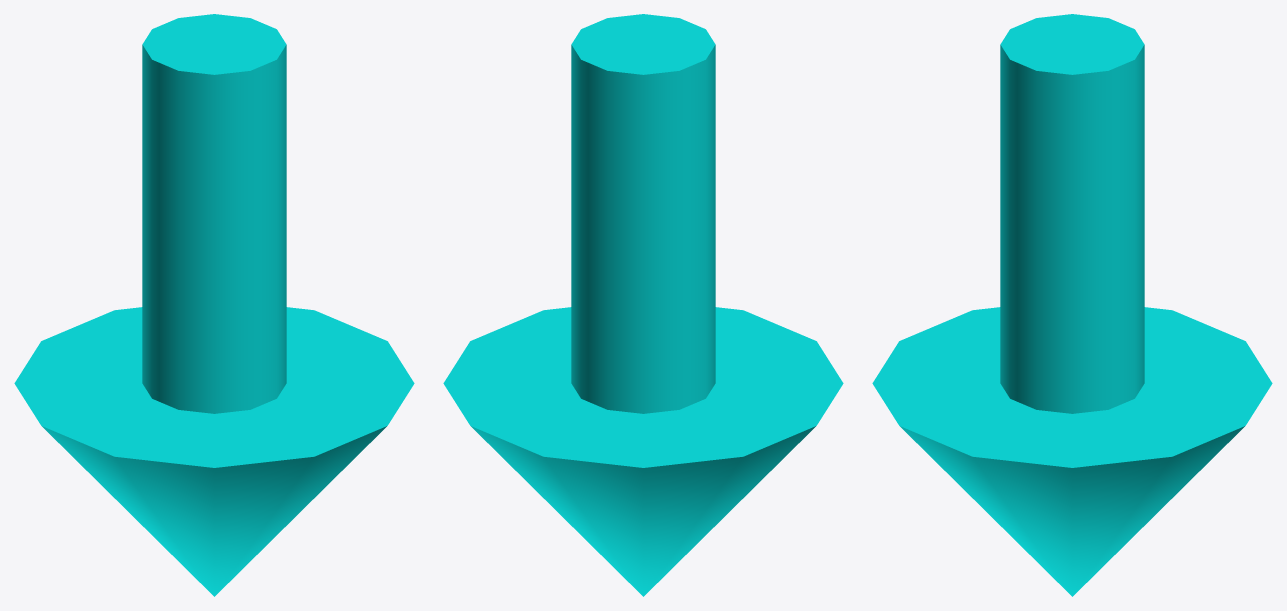
File: Arrow.fbx
The picture shows the model from 3 angles, left to right: view 1: azimuth 30°, elevation 25°; view 2: azimuth 150°, elevation 25°; view 3: azimuth 270°, elevation 25°; orthographic projection.
Visible parts, largest first — view 1: Arrow; view 2: Arrow; view 3: Arrow.
Part boxes in pixels (<box>): Arrow: <box>14,14,414,596</box>; Arrow: <box>443,14,843,596</box>; Arrow: <box>872,14,1272,596</box>.
Bounding box in the file's own units: 0.5729 × 0.8728 × 0.5729.
